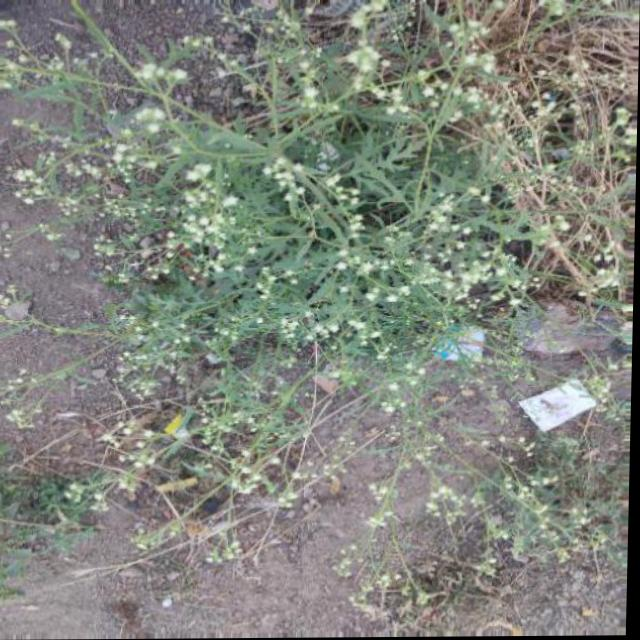weed: (36, 0, 629, 516)
